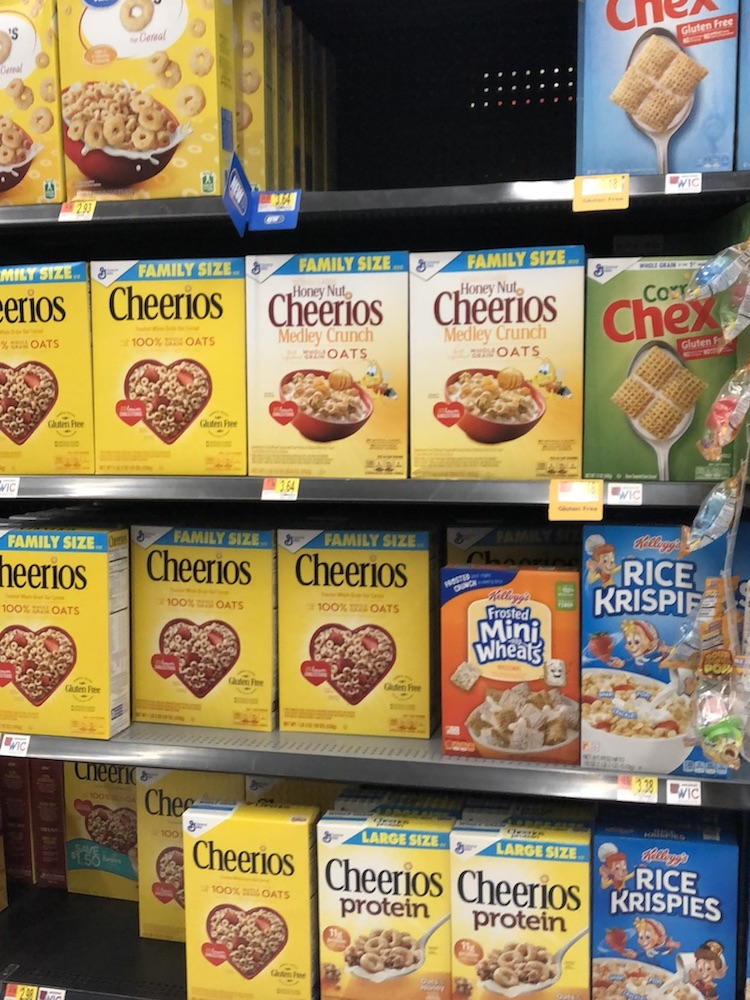Frosted Mini Original -9295869: (438, 561, 587, 772)
